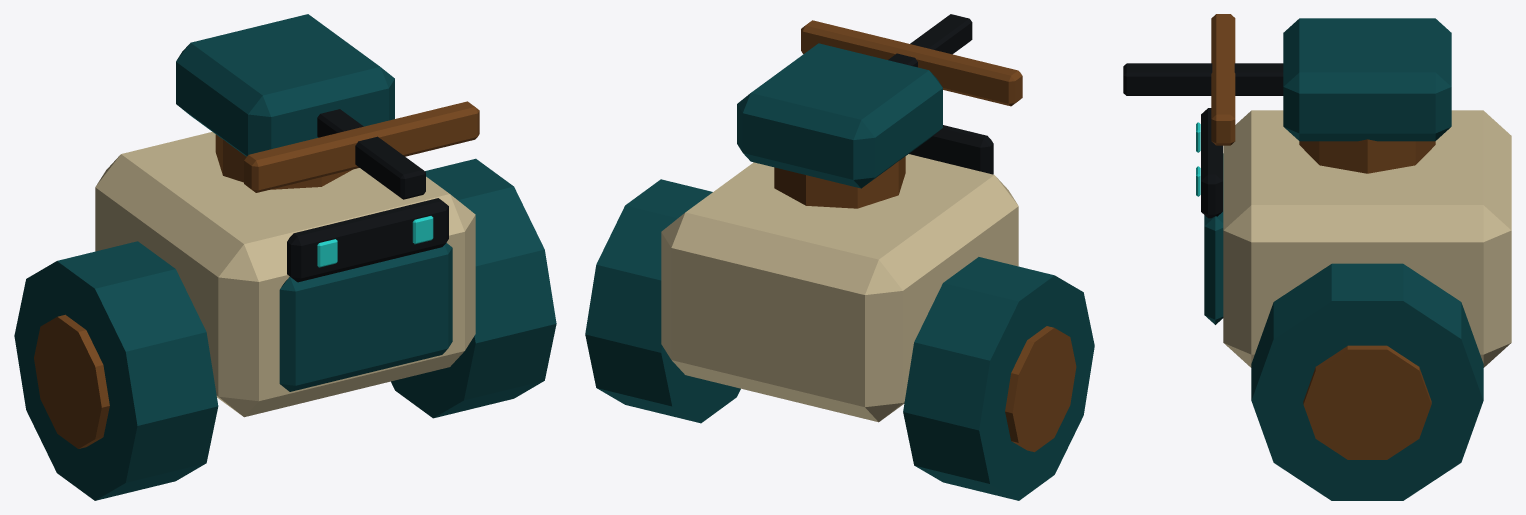
File: gearling-sentinel-static-v1.fbx
3 renders of one model, left to right at view 1: azimuth 30°, elevation 25°; view 2: azimuth 150°, elevation 25°; view 3: azimuth 270°, elevation 25°, orthographic. The views are drawn at different scales.
Parts seen in each view (by area): view 1: Chassis, Wheel, Turret, Wheel.001, Chest plate, Crossbow bow, Hub, Visor, Crossbow barrel, Turret bearing; view 2: Chassis, Wheel, Turret, Wheel.001, Hub, Crossbow bow, Turret bearing, Visor, Crossbow barrel; view 3: Chassis, Wheel.001, Turret, Hub.001, Crossbow barrel, Turret bearing, Crossbow bow, Chest plate, Visor.
Boxes of the visible parts, x1,y1,x2,y2 form: Chassis: (95,132,475,417); Wheel: (14,241,218,500); Turret: (176,14,394,156); Wheel.001: (391,158,556,418); Chest plate: (279,243,452,391); Crossbow bow: (244,101,479,192); Hub: (34,314,109,448); Visor: (287,198,448,282); Crossbow barrel: (317,109,425,199); Turret bearing: (215,134,352,189); Chassis: (661,154,1018,422); Wheel: (903,257,1094,500); Turret: (737,43,942,188); Wheel.001: (585,179,740,423); Hub: (1005,326,1076,452); Crossbow bow: (801,20,1022,106); Turret bearing: (774,156,905,208); Visor: (909,125,993,174); Crossbow barrel: (888,14,972,67); Chassis: (1223,110,1511,367); Wheel.001: (1251,263,1483,500); Turret: (1283,18,1451,141); Hub.001: (1303,345,1431,459); Crossbow barrel: (1123,63,1283,95); Turret bearing: (1299,139,1435,173); Crossbow bow: (1211,14,1235,145); Chest plate: (1204,153,1223,324); Visor: (1201,108,1222,218).
Bounding box in the file's own units: 118 × 97 × 99.08.
1 material, 1 textured.
